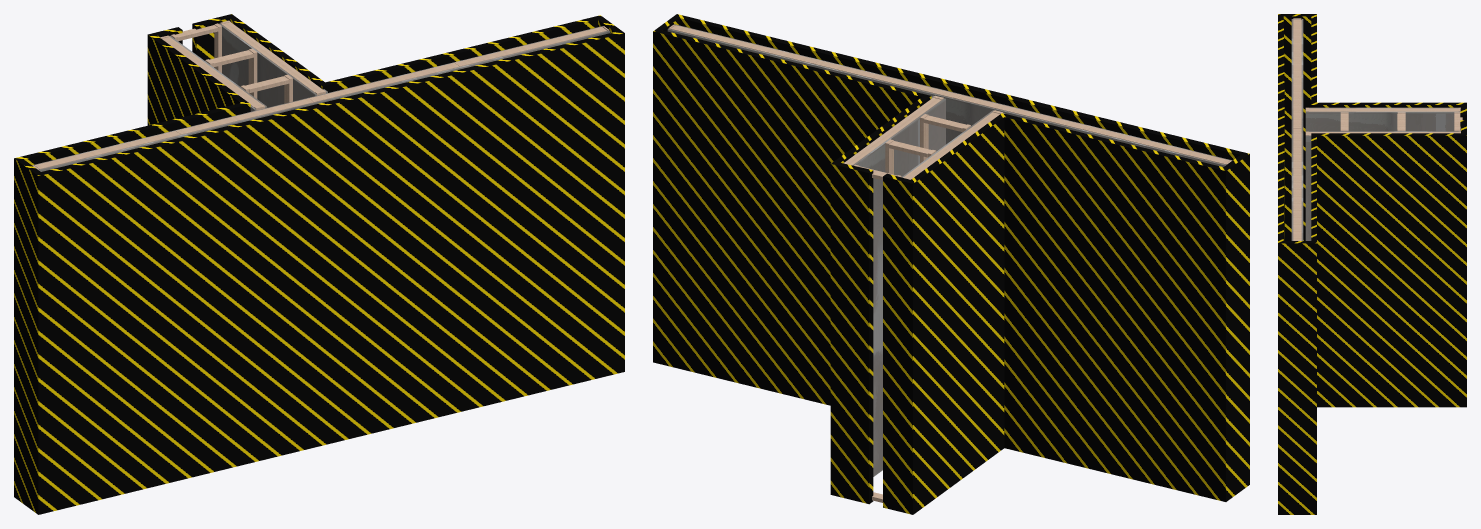
File: WALLSET_I.FBX
The picture shows the model from 3 angles, left to right: view 1: azimuth 30°, elevation 25°; view 2: azimuth 150°, elevation 25°; view 3: azimuth 270°, elevation 25°; orthographic projection. The views are drawn at different scales.
Visible parts, largest first — view 1: SELECTOR_16, FRAME_113, DRYWALL_15; view 2: SELECTOR_16, DRYWALL_15, FRAME_113; view 3: SELECTOR_16, DRYWALL_15, FRAME_113.
Part boxes in pixels (x1,y1,x2,y2): SELECTOR_16: [14, 14, 624, 514]; FRAME_113: [33, 20, 609, 169]; DRYWALL_15: [32, 23, 610, 171]; SELECTOR_16: [653, 14, 1249, 514]; DRYWALL_15: [667, 24, 1232, 476]; FRAME_113: [668, 24, 1231, 502]; SELECTOR_16: [1278, 14, 1466, 514]; DRYWALL_15: [1291, 19, 1460, 240]; FRAME_113: [1293, 18, 1462, 240].
Size of the model in its own units: 164 by 90.28 by 56.88.
